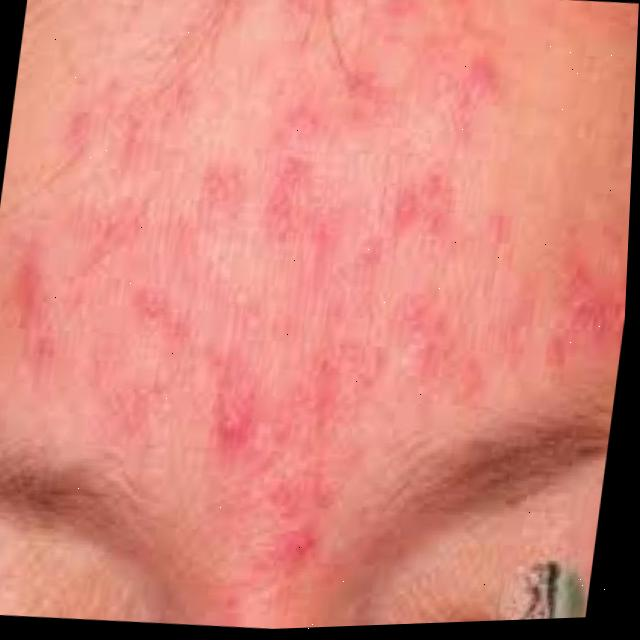Rosacea: (0, 28, 638, 486)
